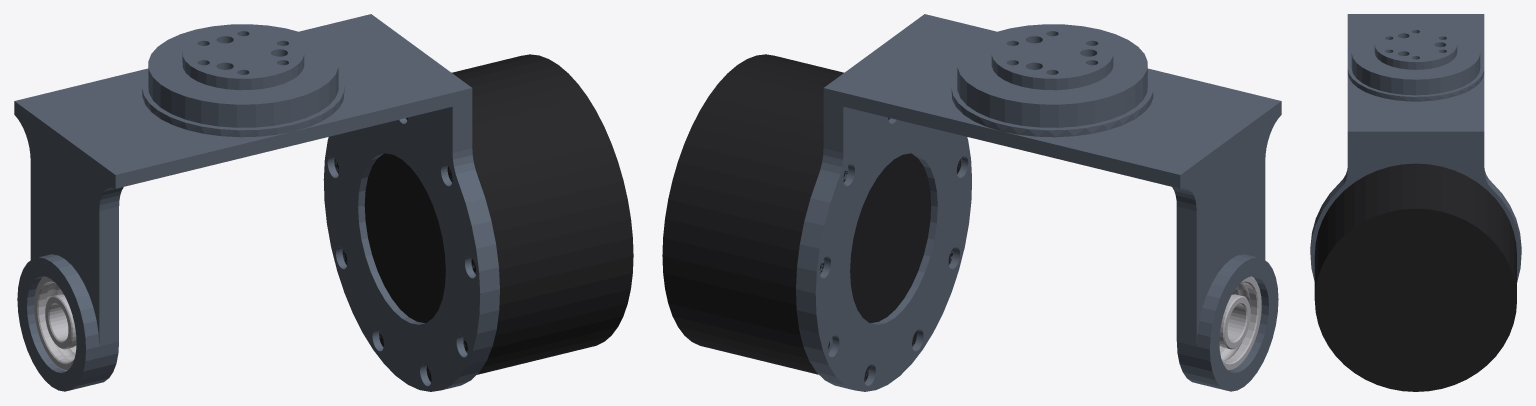
The model's file is hip_yaw_R.dae.
3 renders of one model, left to right at view 1: azimuth 30°, elevation 25°; view 2: azimuth 150°, elevation 25°; view 3: azimuth 270°, elevation 25°, orthographic. The views are drawn at different scales.
Parts seen in each view (by area): view 1: hip_yaw_R-printed, hip_yaw_R-motor, hip_yaw_R-steel; view 2: hip_yaw_R-printed, hip_yaw_R-motor, hip_yaw_R-steel; view 3: hip_yaw_R-motor, hip_yaw_R-printed.
Boxes of the visible parts, x1,y1,x2,y2 form: hip_yaw_R-printed: (14, 14, 499, 391); hip_yaw_R-motor: (334, 54, 633, 382); hip_yaw_R-steel: (34, 276, 76, 370); hip_yaw_R-printed: (796, 14, 1281, 391); hip_yaw_R-motor: (662, 54, 961, 381); hip_yaw_R-steel: (1219, 276, 1261, 370); hip_yaw_R-motor: (1314, 163, 1516, 391); hip_yaw_R-printed: (1310, 14, 1521, 282).
Size of the model in its own units: 0.1534 by 0.082 by 0.1059.
